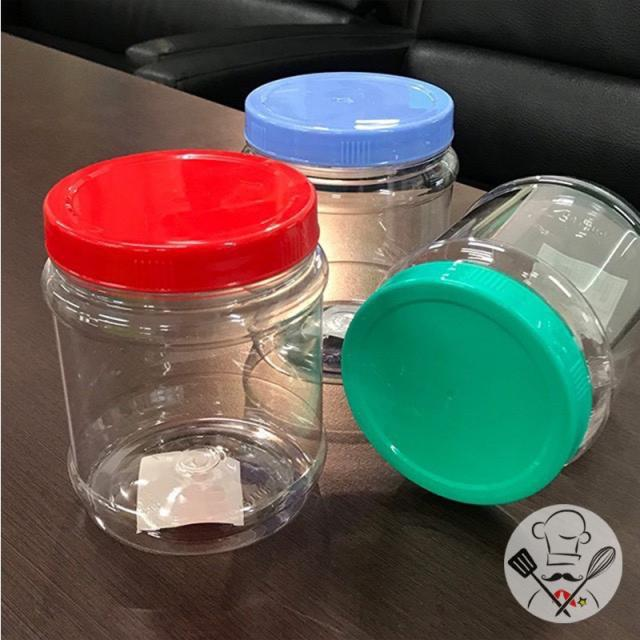plastic: (43, 68, 461, 561), (346, 174, 640, 502)
